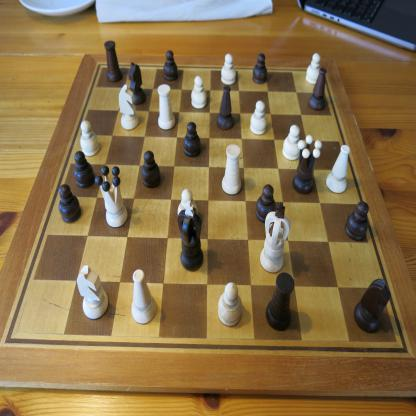black-bishop: (307, 67, 327, 112), (216, 85, 234, 131)
black-king: (177, 200, 204, 272)
black-knight: (353, 277, 392, 334), (128, 61, 146, 106)
black-pawn: (344, 200, 369, 243), (58, 183, 82, 225), (255, 184, 277, 225), (141, 149, 162, 190), (74, 150, 95, 189), (183, 121, 201, 158), (252, 53, 268, 85), (163, 50, 178, 82)
black-queen: (292, 134, 322, 196)
black-rook: (265, 271, 295, 332), (103, 40, 124, 83)
white-bishop: (130, 269, 157, 326), (326, 144, 350, 195)
white-king: (259, 201, 291, 274)
white-knight: (76, 264, 109, 321), (118, 83, 139, 131)
white-pawn: (218, 282, 242, 328), (80, 120, 100, 157), (282, 124, 300, 161), (177, 188, 199, 216), (250, 100, 267, 136), (220, 52, 237, 86), (191, 76, 207, 110), (305, 52, 321, 85)
white-queen: (94, 165, 128, 229)
white-rook: (221, 144, 242, 196), (157, 84, 176, 130)
